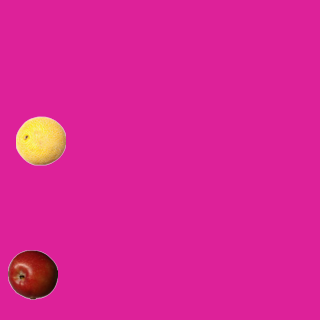Apple Braeburn: (7, 249, 57, 299)
Cantaloupe 1: (15, 115, 65, 165)
